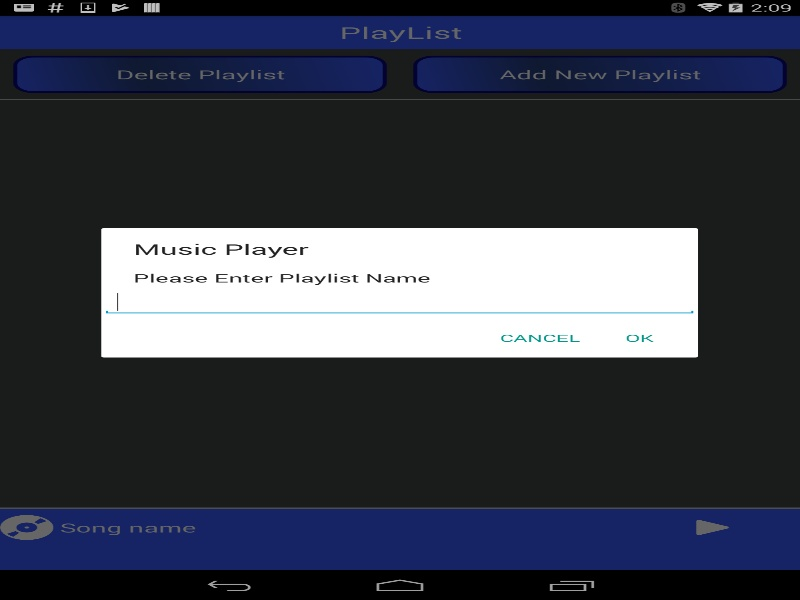Button: (484, 321, 596, 355), (596, 321, 682, 355)
Input: (101, 288, 698, 315)
